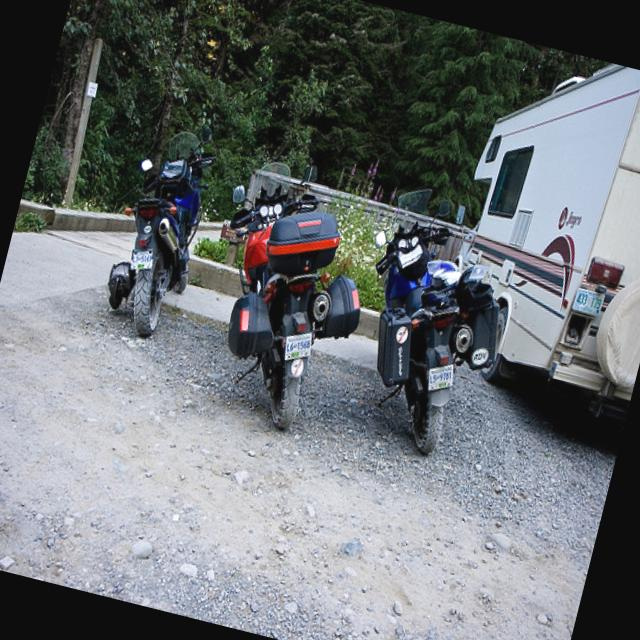Vehicle: (429, 38, 640, 411), (180, 144, 394, 441), (327, 177, 532, 463), (100, 122, 224, 344)
